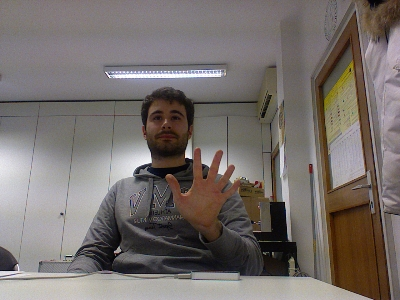布: (164, 145, 241, 227)
